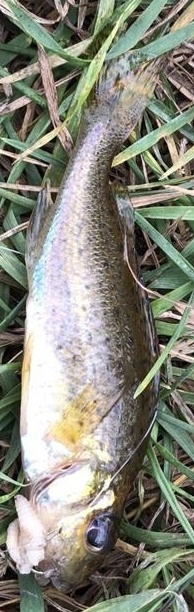Gymnocephalus cernuus: (20, 20, 174, 592)
